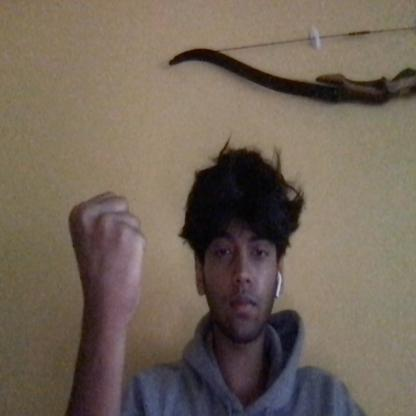fist: (58, 166, 156, 331)
